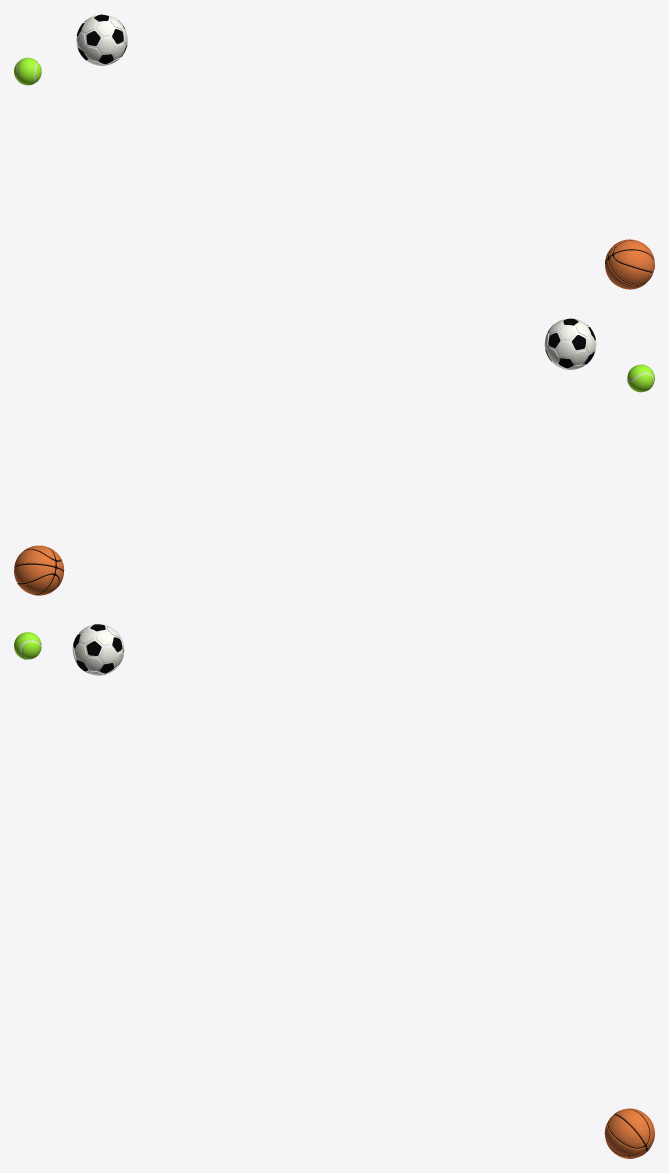
Rendered from Sports_Balls (2).fbx.
The picture shows the model from 3 angles, top to bottom: view 1: azimuth 30°, elevation 25°; view 2: azimuth 150°, elevation 25°; view 3: azimuth 330°, elevation 25°; orthographic projection.
Parts seen in each view (by area): view 1: soccerball, basketball_ball, tennis_ball; view 2: soccerball, basketball_ball, tennis_ball; view 3: soccerball, basketball_ball.
Part boxes in pixels (x1,y1,x2,y2): soccerball: (76,14,127,65); basketball_ball: (605,239,654,289); tennis_ball: (14,57,41,85); soccerball: (544,318,596,369); basketball_ball: (14,545,64,595); tennis_ball: (627,364,654,392); soccerball: (72,624,124,675); basketball_ball: (604,1108,654,1158).
Size of the model in its own units: 2373 by 1429 by 170.
